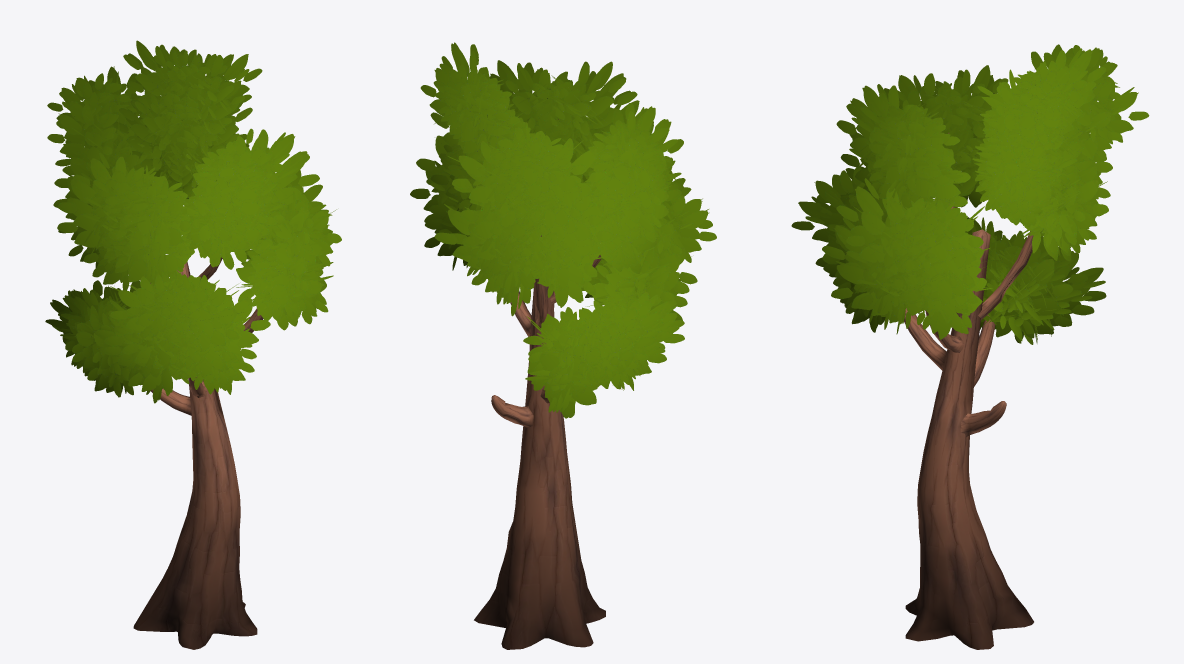
Rendered from tree5.glb.
3 renders of one model, left to right at view 1: azimuth 30°, elevation 25°; view 2: azimuth 150°, elevation 25°; view 3: azimuth 270°, elevation 25°, orthographic. The views are drawn at different scales.
Parts seen in each view (by area): view 1: CommonTree_5; view 2: CommonTree_5; view 3: CommonTree_5.
Boxes of the visible parts, x1=… form: CommonTree_5: x1=45, y1=40, x2=341, y2=649; CommonTree_5: x1=410, y1=42, x2=716, y2=649; CommonTree_5: x1=791, y1=44, x2=1149, y2=649.
Size of the model in its own units: 3.67 by 7.01 by 4.22.
2 materials, 2 textured.
